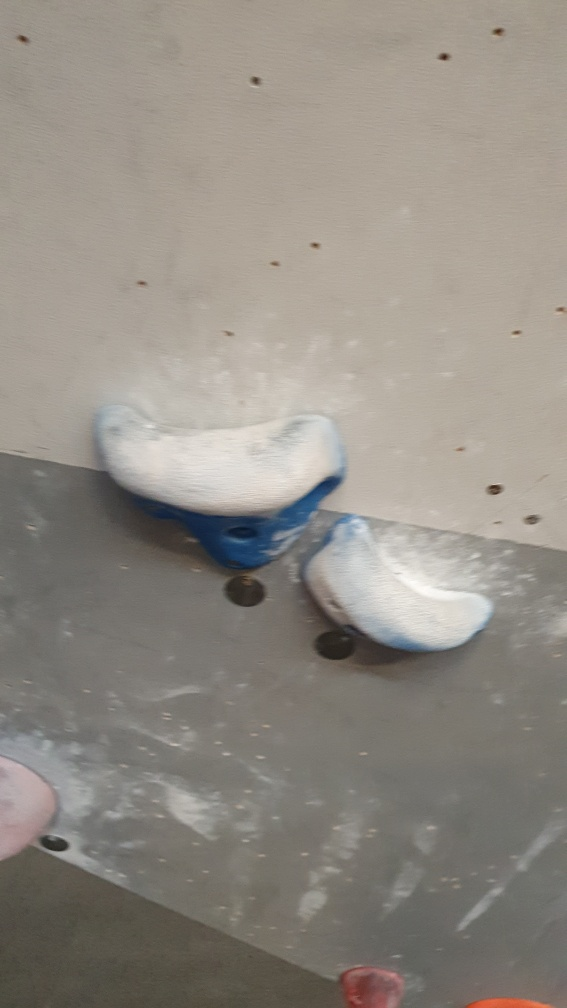Hand Start: (223, 573, 267, 611), (317, 630, 357, 662), (40, 831, 70, 859)
Jug: (94, 396, 351, 573), (305, 515, 496, 660)
Sloper: (1, 747, 62, 871)
